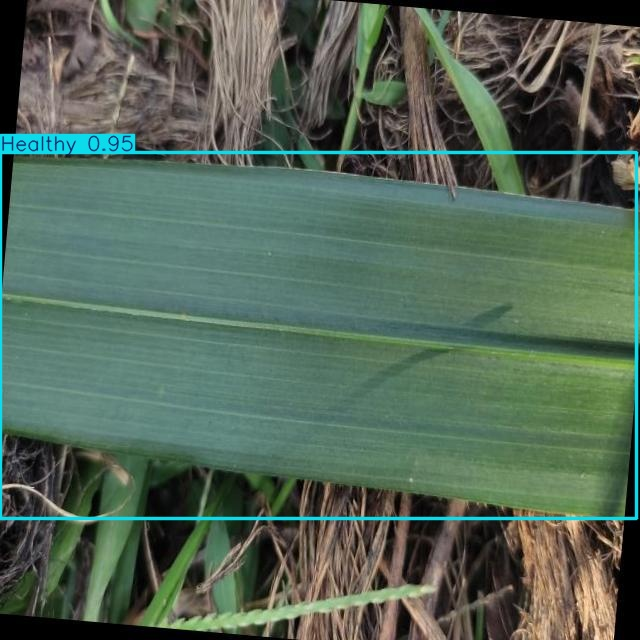Healthy: (0, 153, 636, 519)
